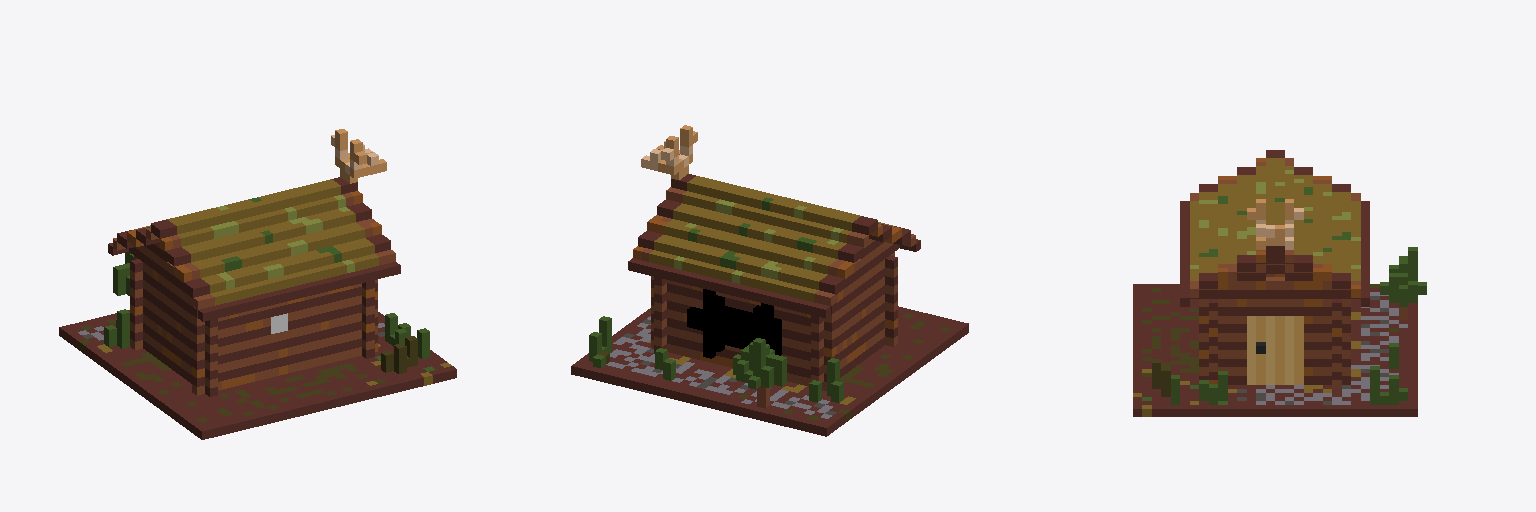
3 views of the same model, side by side, from view 1: azimuth 30°, elevation 25°; view 2: azimuth 150°, elevation 25°; view 3: azimuth 270°, elevation 25° (orthographic).
Parts seen in each view (by area): view 1: object 1; view 2: object 1; view 3: object 1.
Part boxes in pixels (x1,y1,x2,y2): object 1: (59,129,456,439); object 1: (571,125,968,436); object 1: (1133,150,1426,416).
Bounding box in the file's own units: 3.1 × 2.3 × 3.1.
Materials: 1 (1 with a texture image).